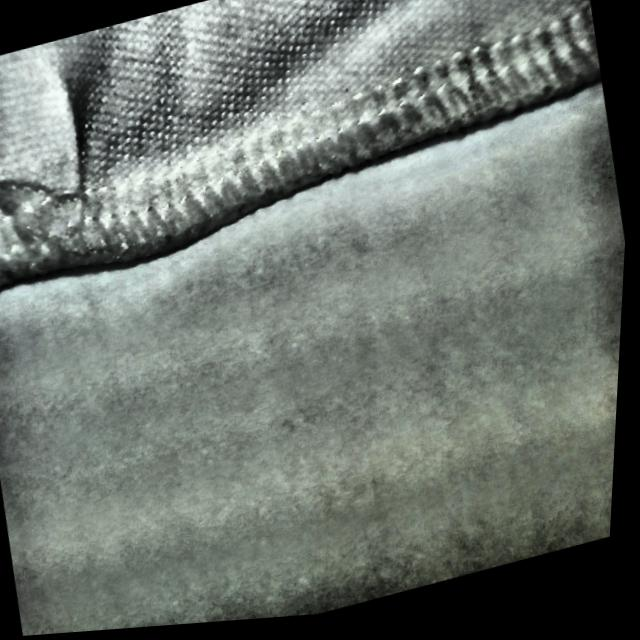seam: (0, 80, 149, 305)
